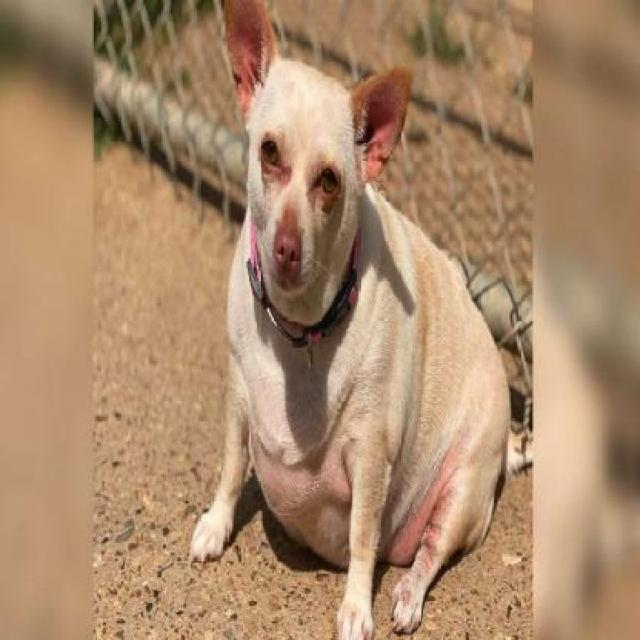Dog: (189, 0, 512, 638)
